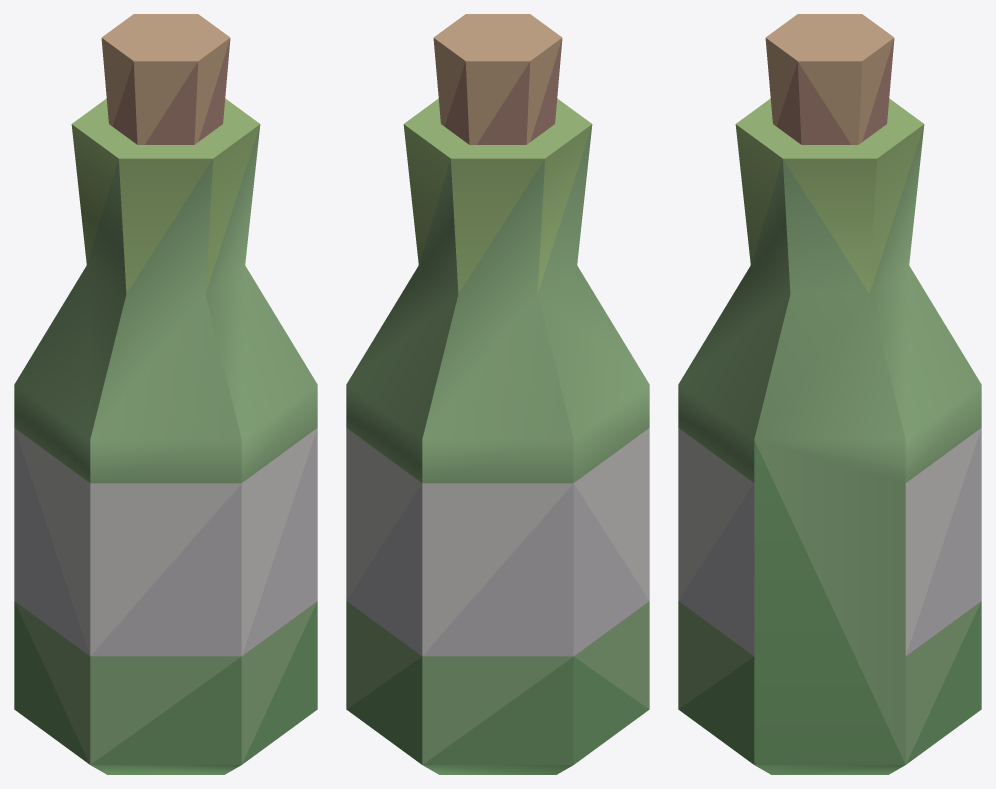
3 views of the same model, side by side, from view 1: azimuth 30°, elevation 25°; view 2: azimuth 150°, elevation 25°; view 3: azimuth 270°, elevation 25° (orthographic).
Visible parts, largest first — view 1: model; view 2: model; view 3: model.
Boxes of the visible parts, x1,y1,x2,y2 form: model: (14,14,317,774); model: (346,14,649,774); model: (678,14,981,774).
Bounding box in the file's own units: 0.1317 × 0.3847 × 0.1521.
